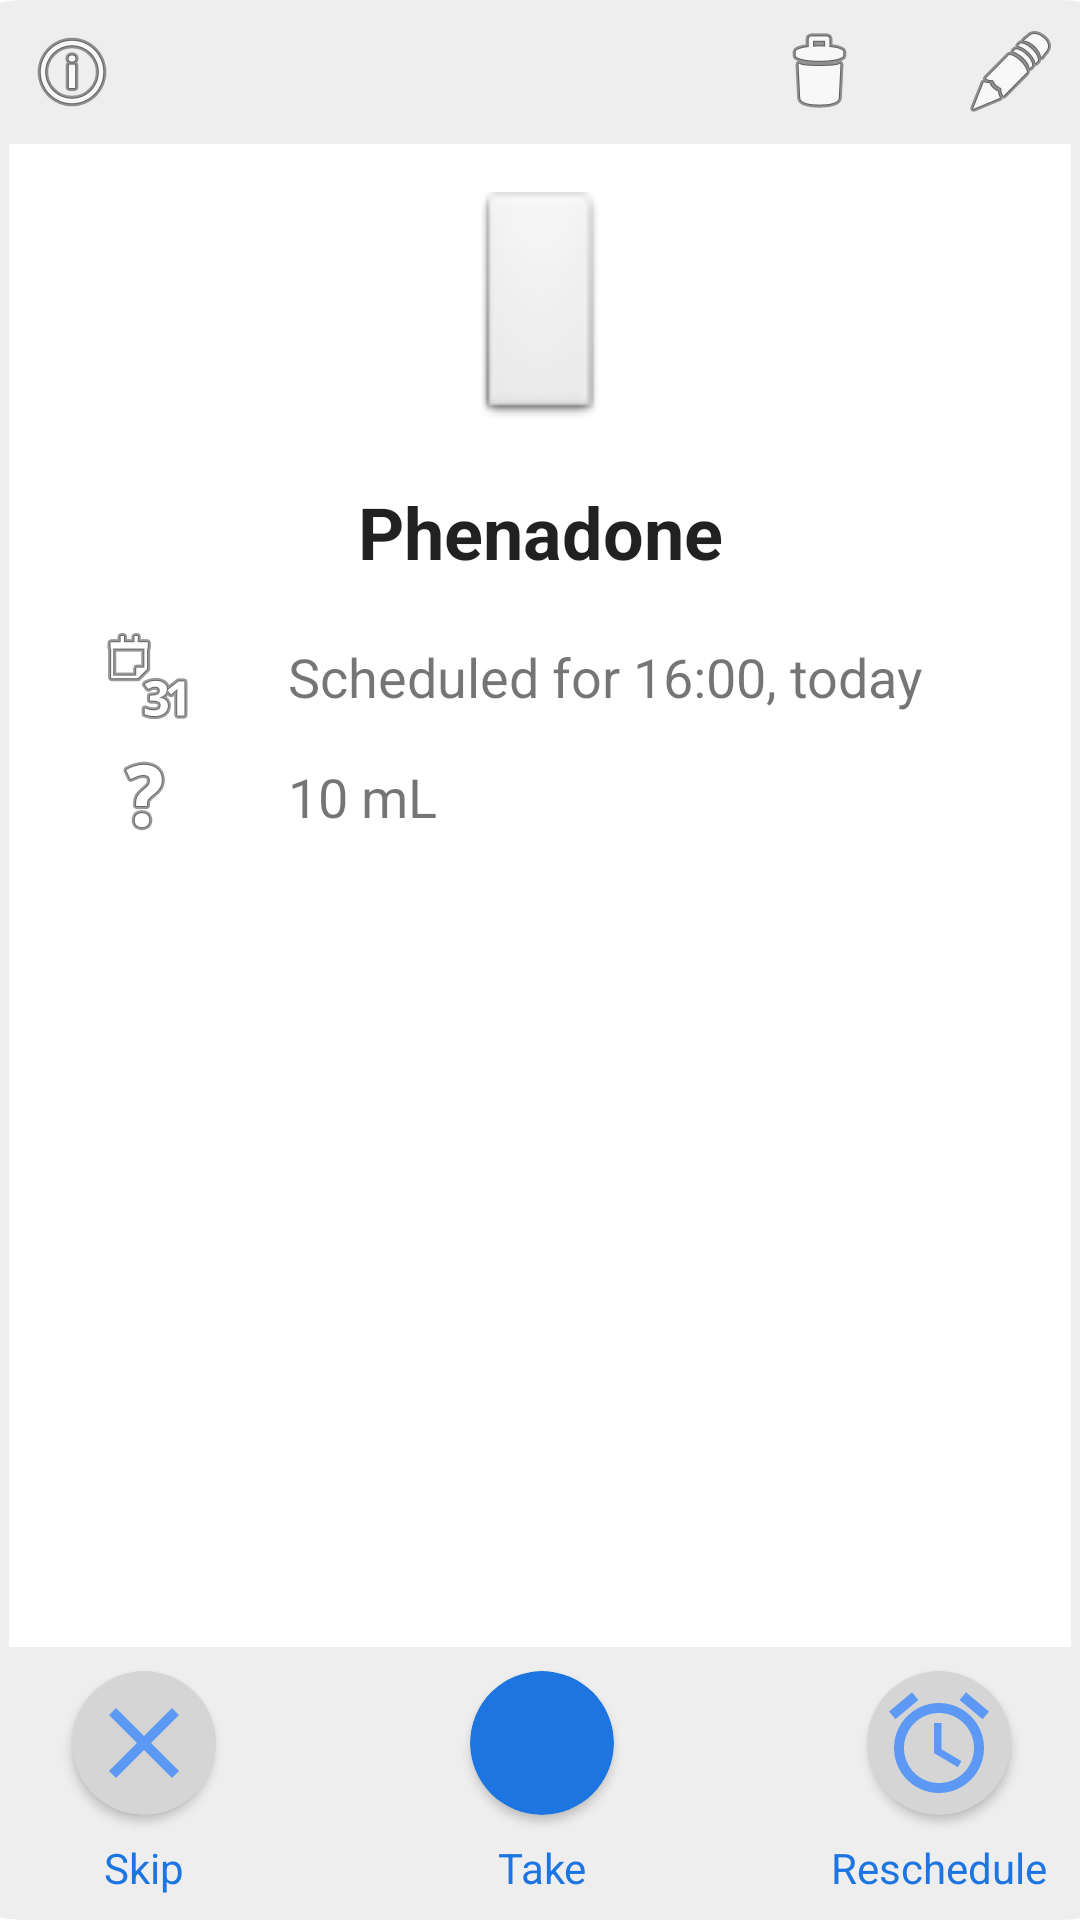

Icons on this 1080 x 1920 Android screen, each with the point to tap as point (x, y):
alarm: point (939, 1742)
delete: point (819, 70)
edit: point (1010, 71)
help: point (144, 796)
info details: point (72, 72)
month: point (147, 676)
